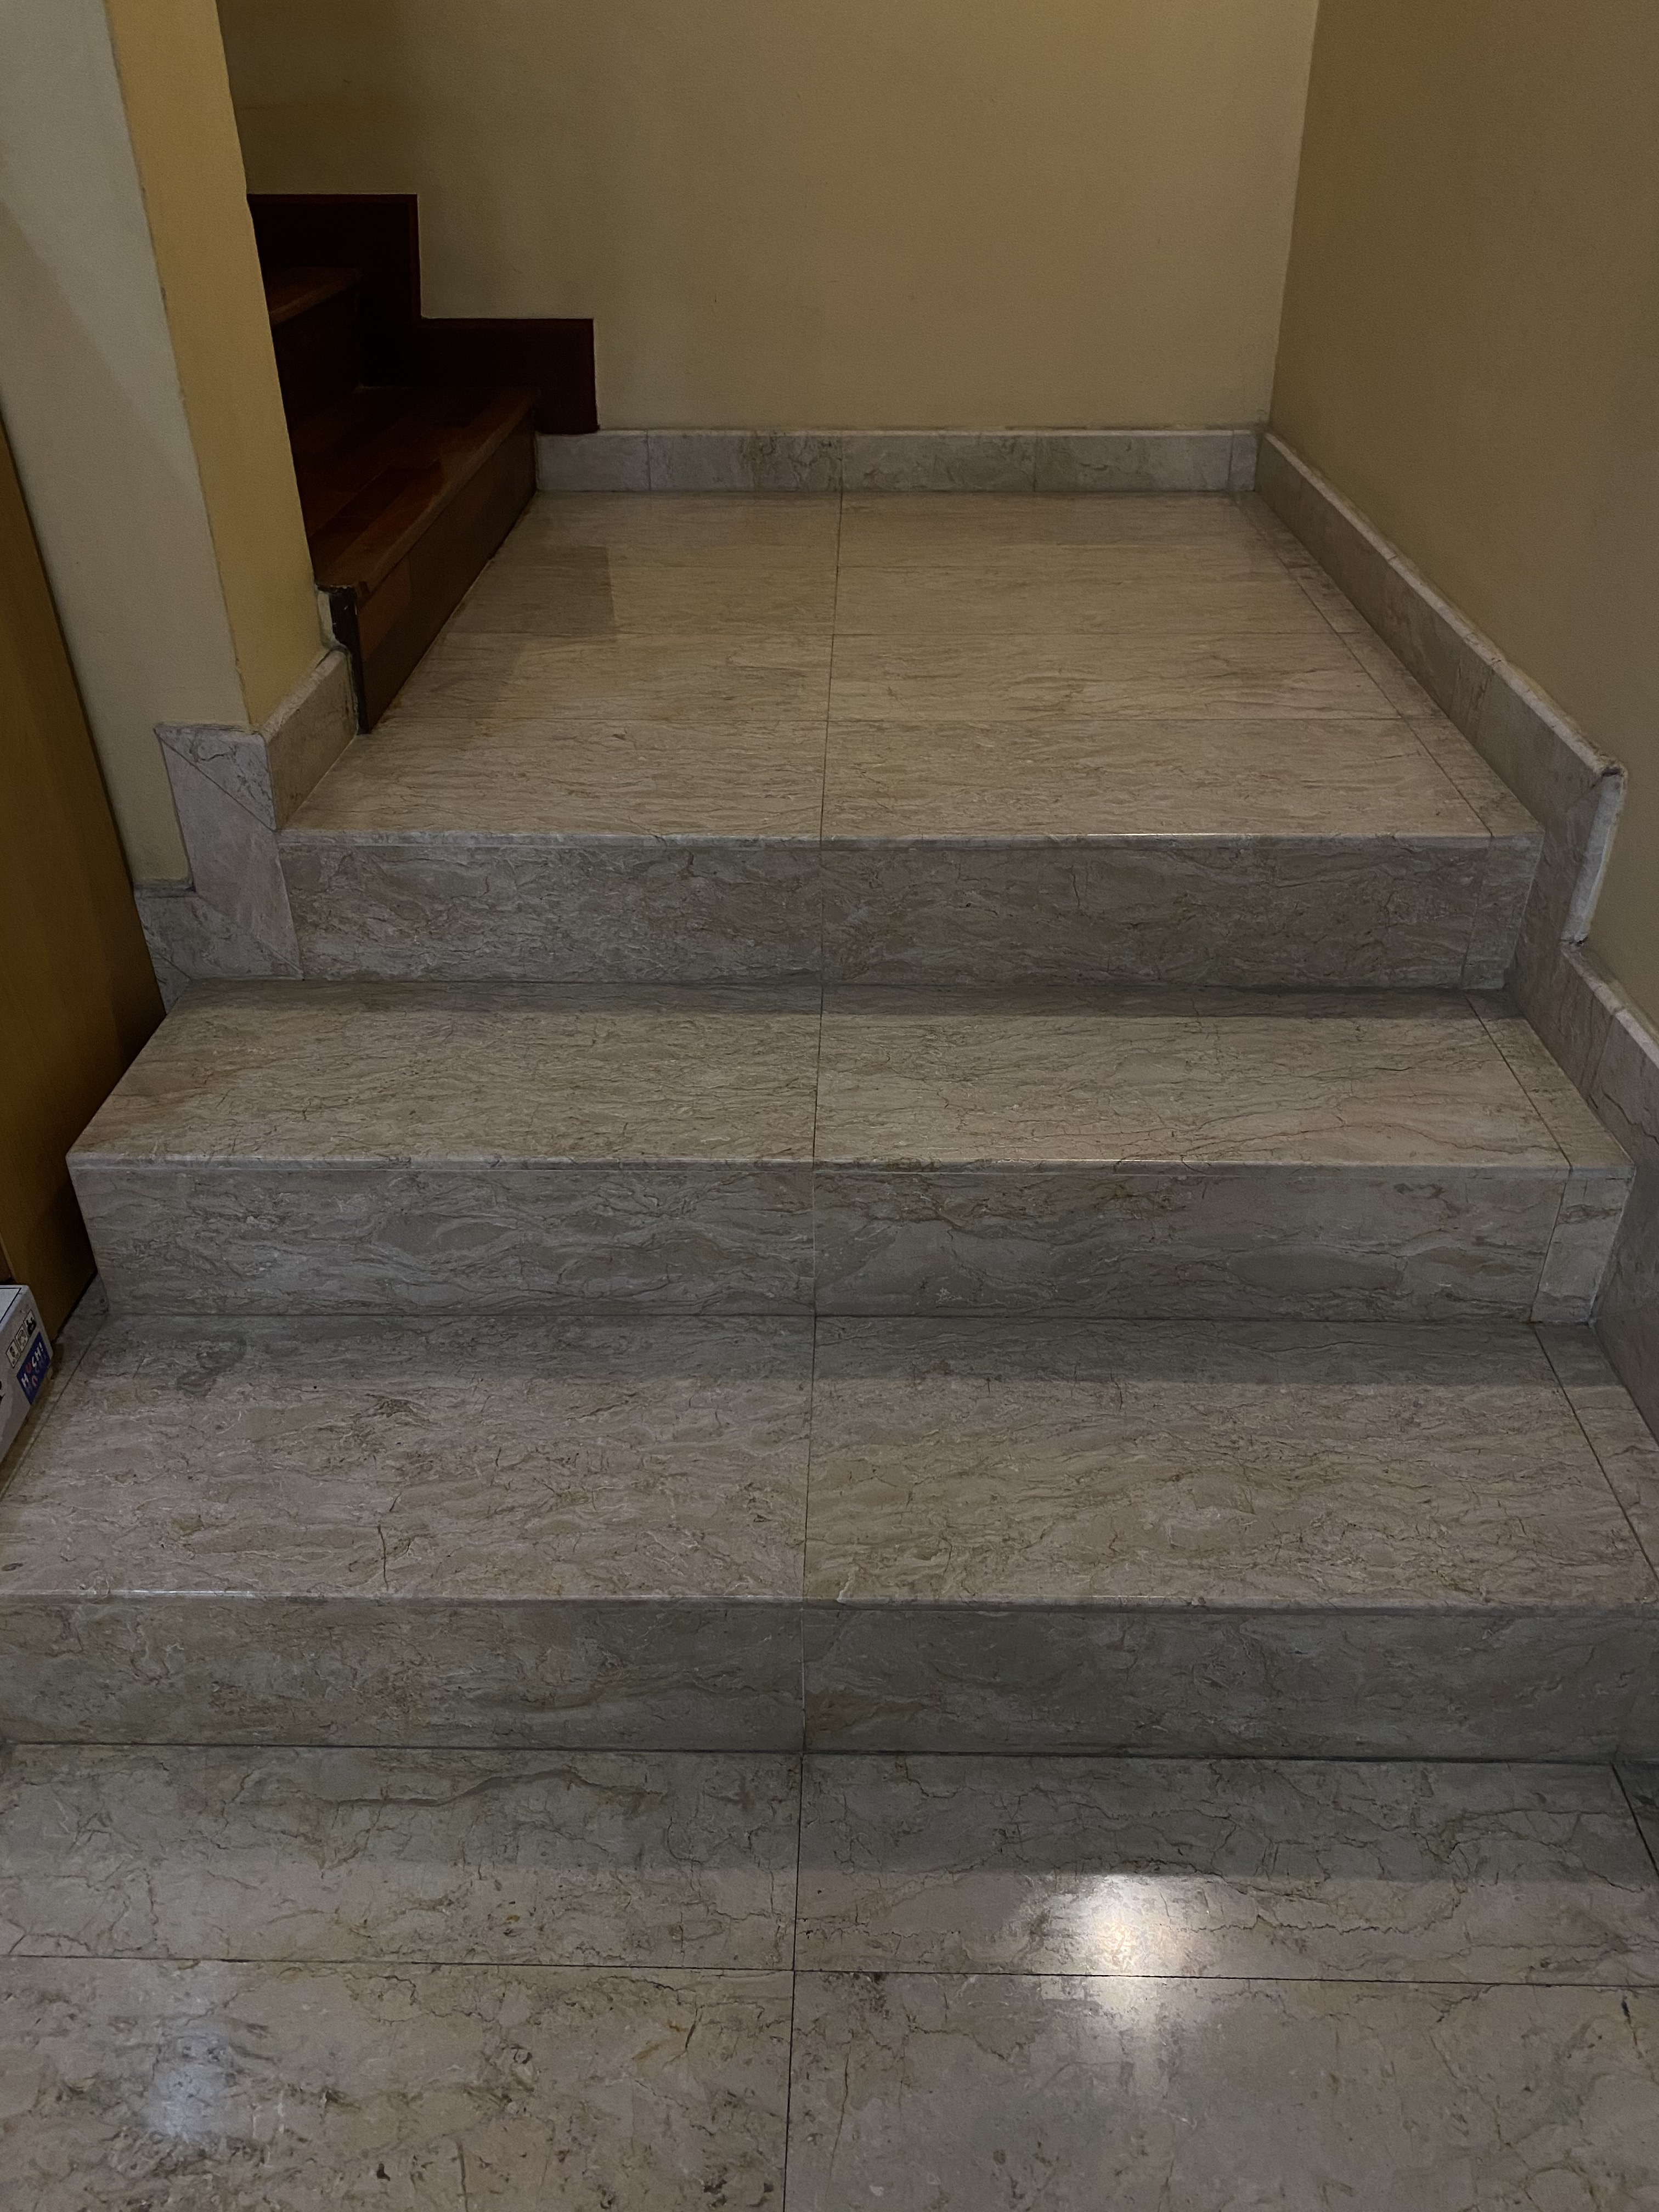upstairs: (369, 747, 1474, 1858)
